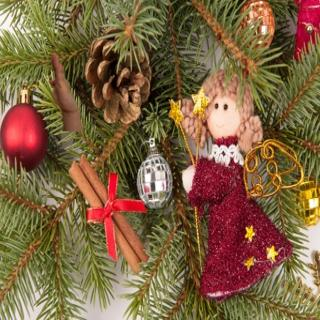RIGHT: (44, 51, 78, 114)
